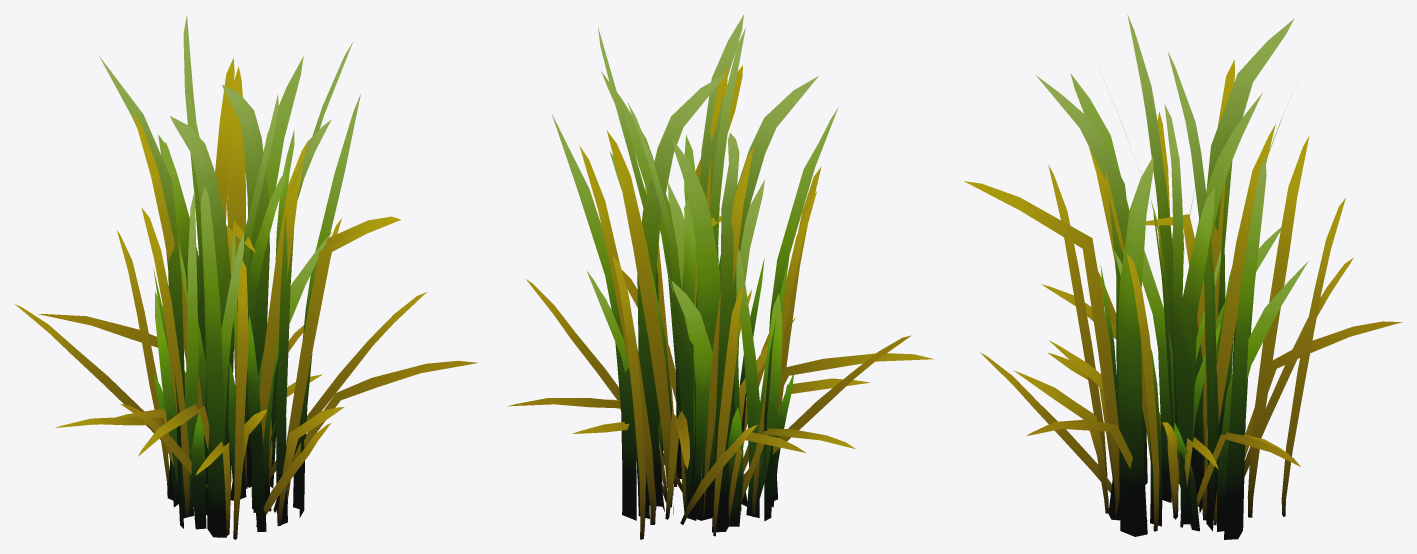
The model's file is grass.glb.
The picture shows the model from 3 angles, left to right: view 1: azimuth 30°, elevation 25°; view 2: azimuth 150°, elevation 25°; view 3: azimuth 270°, elevation 25°; orthographic projection. The views are drawn at different scales.
Visible parts, largest first — view 1: Grass_Common_Tall, Grass_Wispy_Tall, Grass_Common_Short; view 2: Grass_Common_Tall, Grass_Wispy_Tall, Grass_Common_Short; view 3: Grass_Common_Tall, Grass_Wispy_Tall, Grass_Common_Short.
Part boxes in pixels (left/top/right/bottom): Grass_Common_Tall: left=99, top=15, right=360, bottom=537; Grass_Wispy_Tall: left=15, top=58, right=477, bottom=539; Grass_Common_Short: left=153, top=184, right=331, bottom=529; Grass_Common_Tall: left=551, top=15, right=838, bottom=532; Grass_Wispy_Tall: left=508, top=65, right=934, bottom=539; Grass_Common_Short: left=586, top=179, right=793, bottom=526; Grass_Common_Tall: left=1036, top=15, right=1294, bottom=539; Grass_Wispy_Tall: left=964, top=59, right=1402, bottom=531; Grass_Common_Short: left=1114, top=186, right=1308, bottom=531.
Bounding box in the file's own units: 1.54 × 1.88 × 1.59.
1 material, 1 textured.
